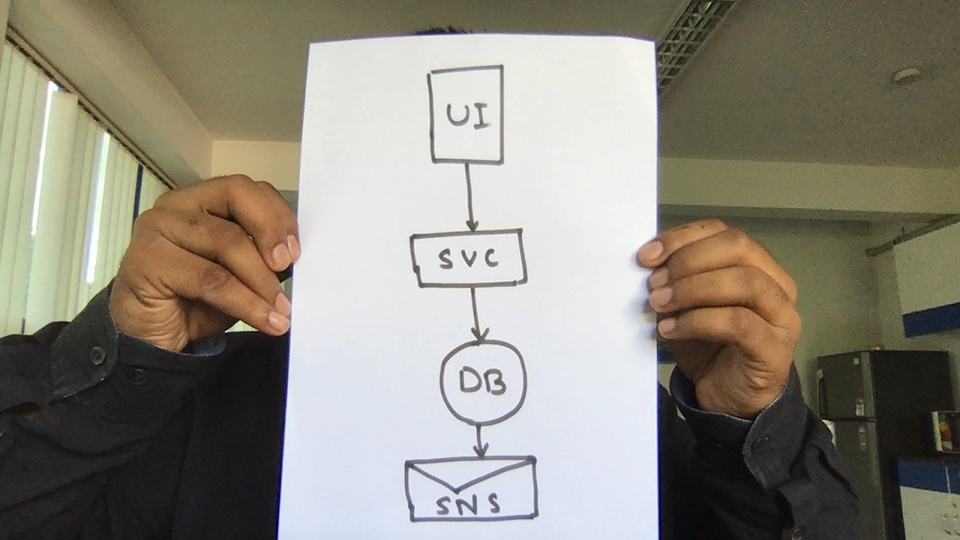db: (434, 329, 531, 439)
ec2: (400, 221, 545, 305)
sns: (400, 452, 548, 530)
ui: (422, 62, 515, 177)
